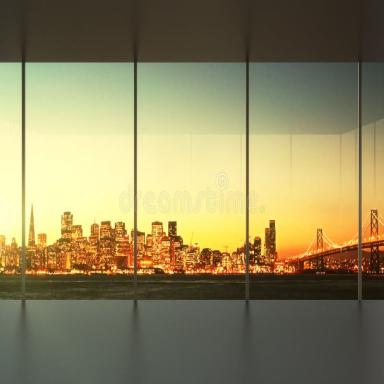glass_panel: (139, 64, 245, 273), (251, 63, 357, 272), (27, 64, 132, 274), (362, 64, 384, 273), (0, 64, 21, 273)
